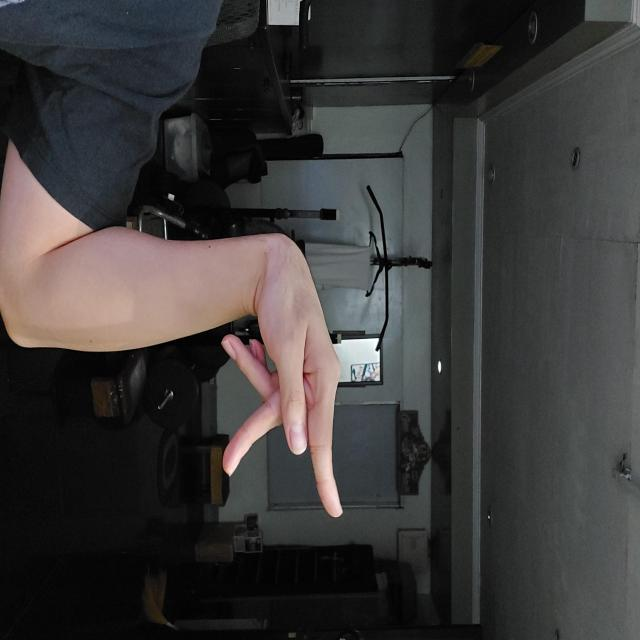P: (232, 296, 519, 419)
